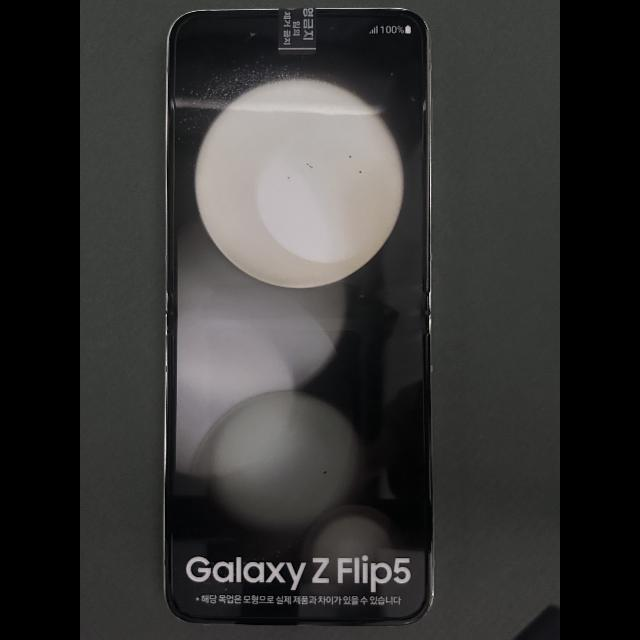phone: (163, 8, 435, 627)
sticker: (278, 7, 316, 56)
